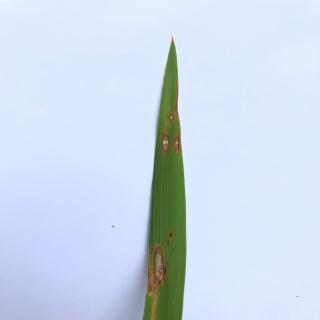Blast: (146, 240, 169, 292), (170, 128, 186, 154), (157, 128, 170, 156), (164, 107, 177, 125)
